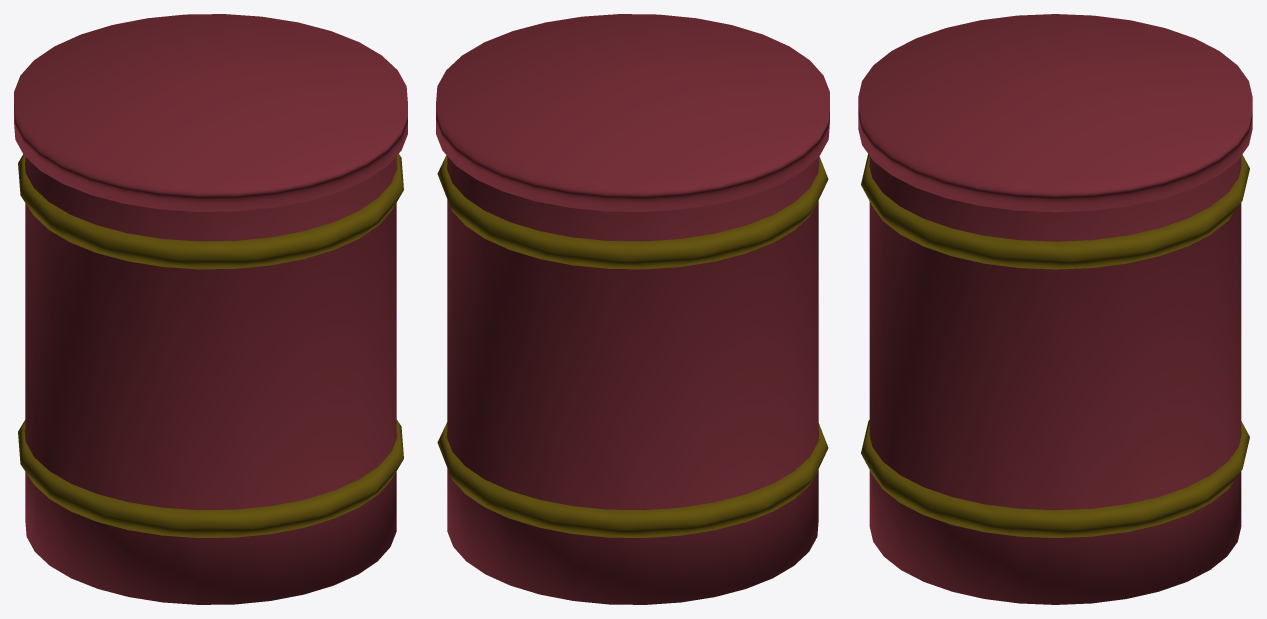
The model's file is barrellid.fbx.
3 renders of one model, left to right at view 1: azimuth 30°, elevation 25°; view 2: azimuth 150°, elevation 25°; view 3: azimuth 270°, elevation 25°, orthographic.
Visible parts, largest first — view 1: Cylinder, Cylinder.003, Cylinder.002, Cylinder.001; view 2: Cylinder, Cylinder.003, Cylinder.001, Cylinder.002; view 3: Cylinder, Cylinder.003, Cylinder.001, Cylinder.002.
Part boxes in pixels (box(x1,y1,x2,y2)): Cylinder: box(24, 156, 397, 604); Cylinder.003: box(14, 14, 407, 211); Cylinder.002: box(18, 419, 403, 537); Cylinder.001: box(18, 154, 403, 269); Cylinder: box(446, 156, 819, 604); Cylinder.003: box(436, 14, 829, 211); Cylinder.001: box(437, 155, 828, 269); Cylinder.002: box(437, 422, 828, 537); Cylinder: box(869, 156, 1241, 604); Cylinder.003: box(858, 14, 1252, 212); Cylinder.001: box(861, 154, 1249, 269); Cylinder.002: box(861, 420, 1249, 537).
Size of the model in its own units: 364 by 461 by 364.
